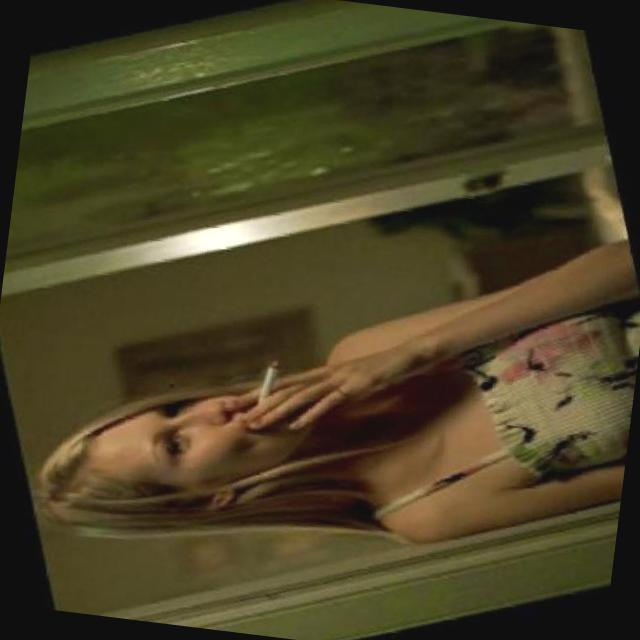cigarette: (240, 352, 302, 414)
